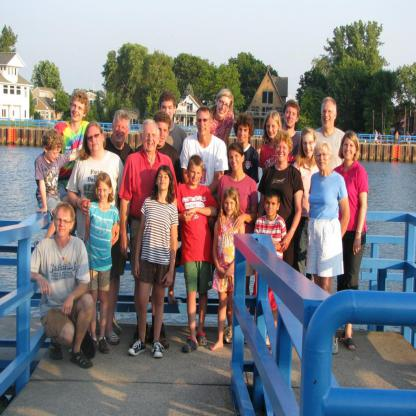face: (143, 127, 158, 151), (56, 213, 70, 237), (88, 130, 103, 151), (156, 122, 169, 146), (114, 121, 128, 143), (322, 106, 335, 129), (198, 115, 211, 136), (343, 140, 356, 160), (303, 136, 315, 157), (316, 152, 330, 170), (72, 100, 84, 121), (162, 102, 174, 122), (230, 153, 243, 171), (276, 143, 289, 161), (190, 167, 202, 186), (158, 172, 170, 190), (218, 99, 230, 117), (238, 125, 250, 143), (267, 121, 279, 139), (285, 109, 297, 127), (225, 198, 237, 216), (266, 199, 278, 217), (98, 184, 110, 202), (48, 147, 62, 162)
